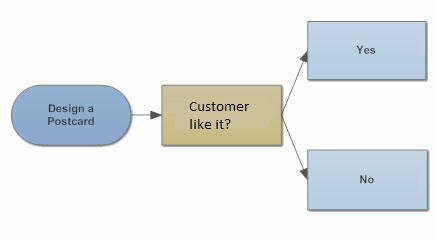arrow: (279, 114, 309, 182), (282, 47, 309, 116), (128, 109, 162, 121)
process: (159, 83, 285, 149), (305, 147, 431, 213), (305, 19, 430, 83)
terminator: (9, 83, 134, 149)
text: (188, 99, 250, 130), (46, 102, 96, 129), (355, 44, 377, 57), (357, 173, 375, 185)
